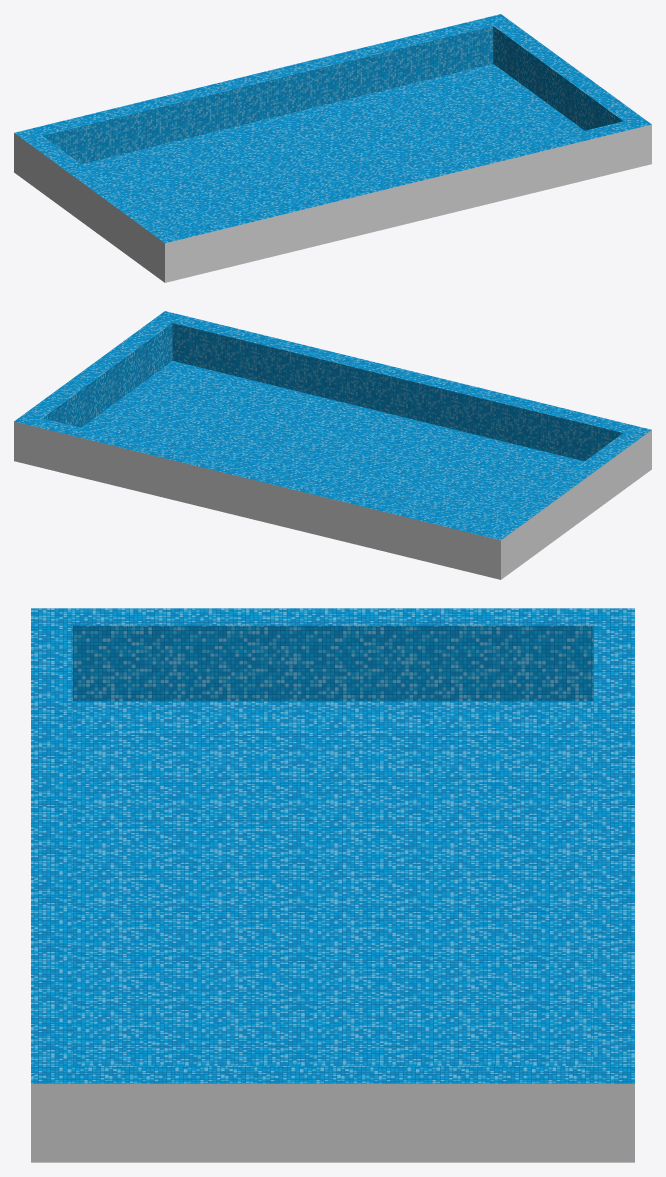
File: semi_olympic_pool.dae
The picture shows the model from 3 angles, top to bottom: view 1: azimuth 30°, elevation 25°; view 2: azimuth 150°, elevation 25°; view 3: azimuth 270°, elevation 25°; orthographic projection. The views are drawn at different scales.
Parts seen in each view (by area): view 1: pool; view 2: pool; view 3: pool.
Boxes of the visible parts, bbox=[...] form: pool: bbox=[14, 14, 651, 282]; pool: bbox=[14, 311, 651, 579]; pool: bbox=[31, 608, 634, 1162].
Size of the model in its own units: 27 by 14.5 by 2.1.
Materials: 2 (1 with a texture image).
